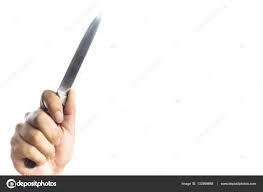knife: (18, 5, 107, 172)
